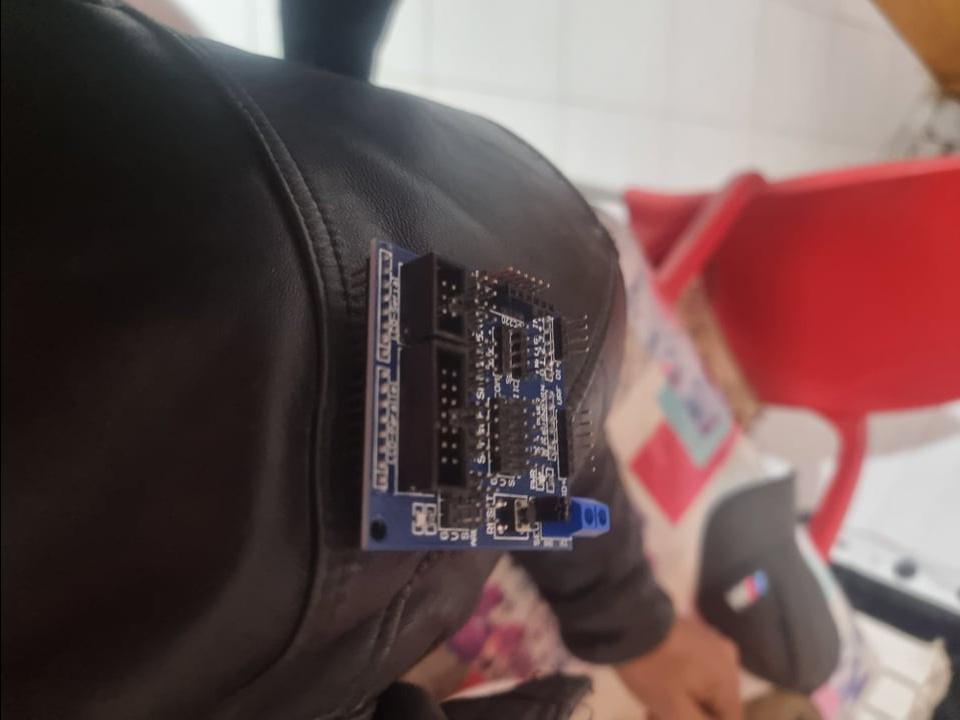5V EXPANSION: (359, 240, 610, 555)
